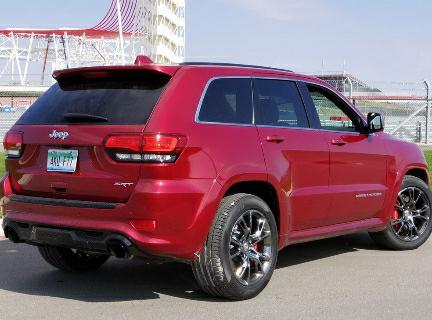Jeep-大切诺基SRT: (2, 56, 432, 303)
